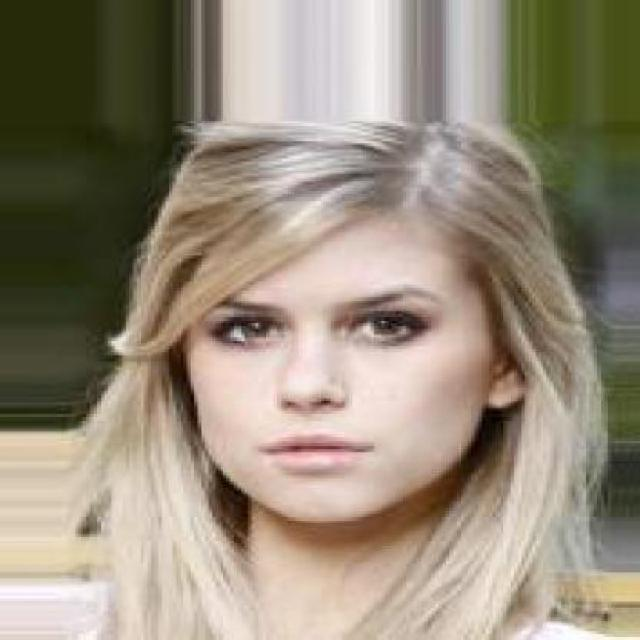closed-mouth: (264, 432, 368, 468)
